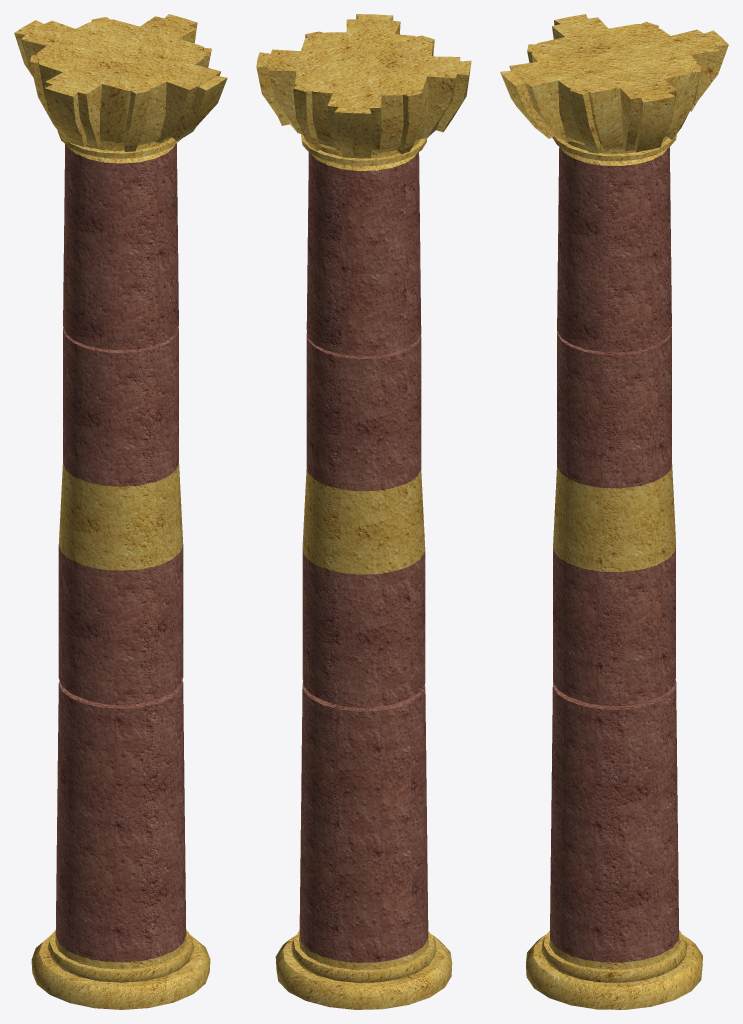
File: RedColumn.fbx
The picture shows the model from 3 angles, left to right: view 1: azimuth 30°, elevation 25°; view 2: azimuth 150°, elevation 25°; view 3: azimuth 270°, elevation 25°; orthographic projection.
Visible parts, largest first — view 1: pillar; view 2: pillar; view 3: pillar.
Boxes of the visible parts, x1,y1,x2,y2 form: pillar: [14, 14, 227, 1009]; pillar: [256, 14, 471, 1009]; pillar: [500, 14, 728, 1009].
Bounding box in the file's own units: 2.94 × 14.16 × 3.21.
2 materials, 2 textured.
